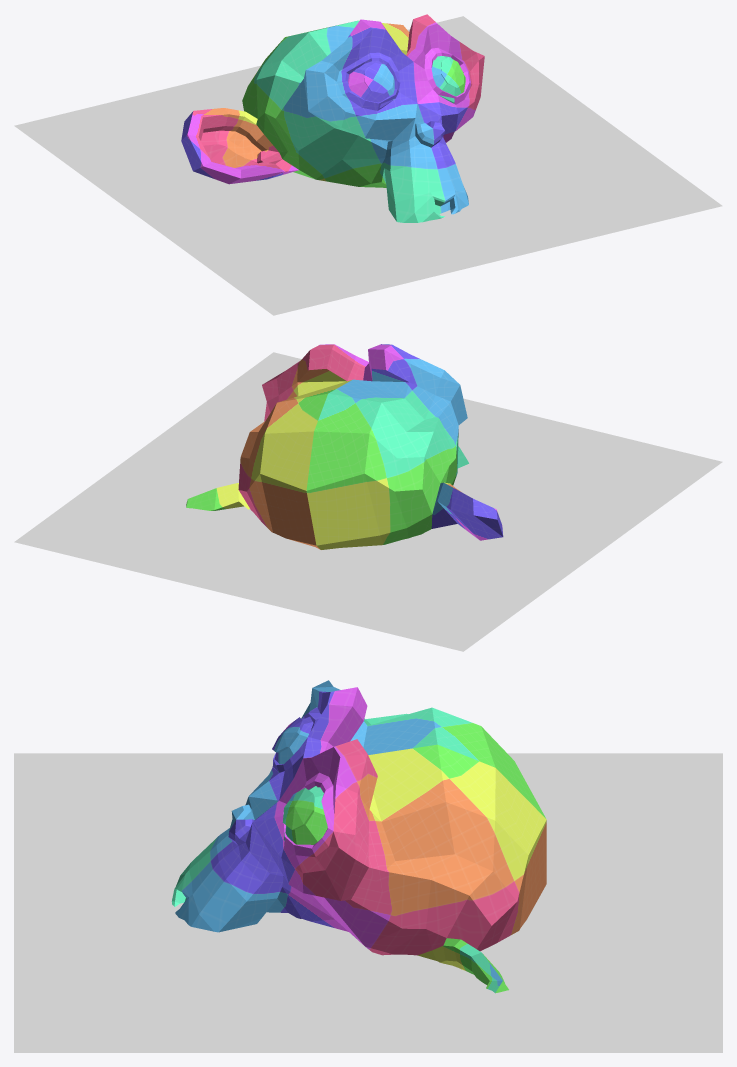
Rendered from suzanne.glb.
3 views of the same model, one above another, from view 1: azimuth 30°, elevation 25°; view 2: azimuth 150°, elevation 25°; view 3: azimuth 270°, elevation 25° (orthographic). The views are drawn at different scales.
Visible parts, largest first — view 1: Plane, Suzanne; view 2: Plane, Suzanne; view 3: Plane, Suzanne.
Boxes of the visible parts, x1,y1,x2,y2 form: Plane: (14,16,722,315); Suzanne: (181,14,484,222); Plane: (14,352,722,651); Suzanne: (186,344,503,549); Plane: (14,753,722,1052); Suzanne: (171,680,546,993).
Size of the model in its own units: 4 by 1.68 by 4.
Materials: 1 (1 with a texture image).
